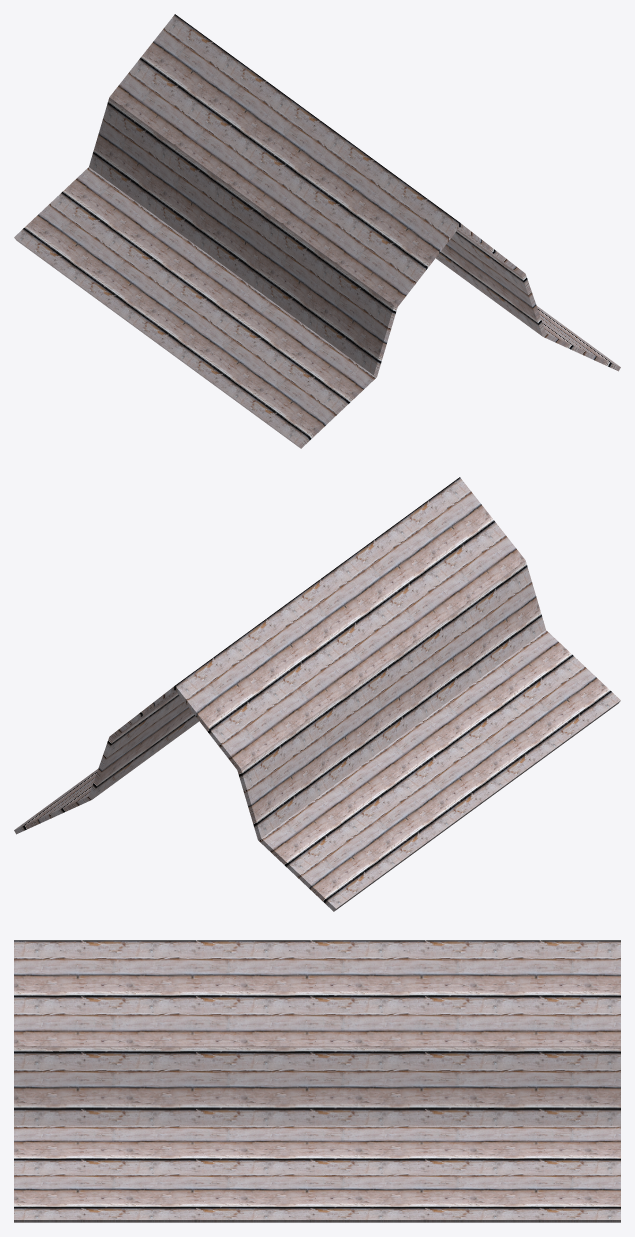
The picture shows the model from 3 angles, top to bottom: view 1: azimuth 30°, elevation 25°; view 2: azimuth 150°, elevation 25°; view 3: azimuth 270°, elevation 25°; orthographic projection. The views are drawn at different scales.
Visible parts, largest first — view 1: Plane001_woodboard_0; view 2: Plane001_woodboard_0; view 3: Plane001_woodboard_0.
Boxes of the visible parts, <box> form: Plane001_woodboard_0: <box>14,14,620,448</box>; Plane001_woodboard_0: <box>14,477,620,911</box>; Plane001_woodboard_0: <box>14,940,620,1222</box>.
Size of the model in its own units: 15.54 by 8.65 by 23.8.
Materials: 1 (1 with a texture image).
